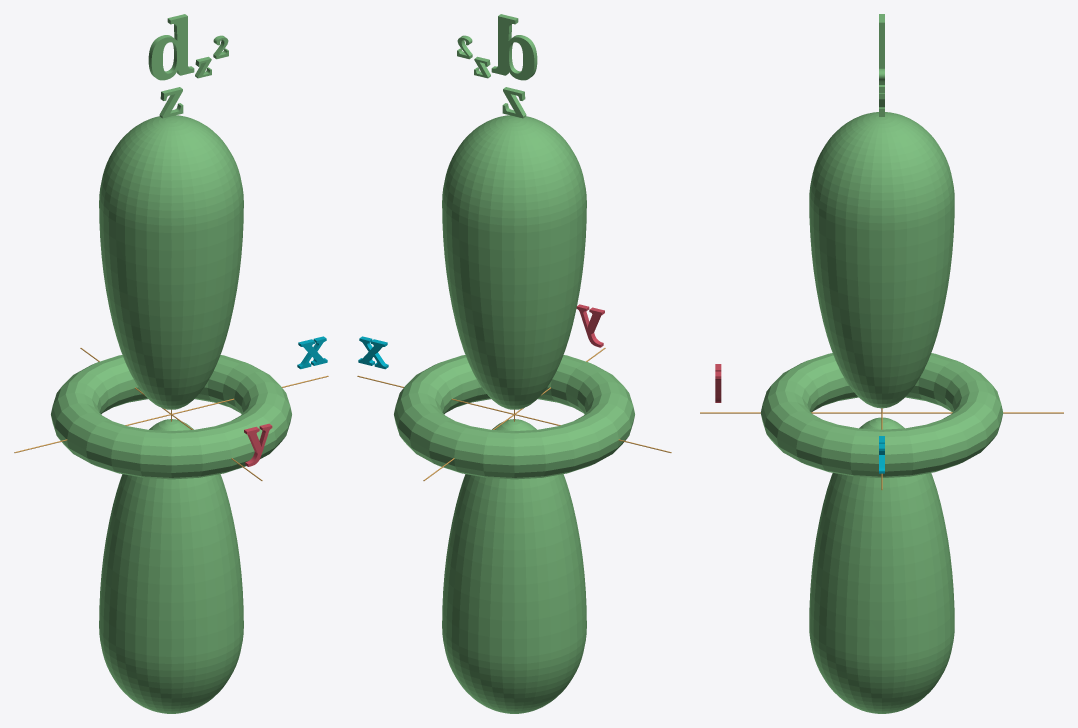
File: dz2 orbital updated.glb
3 renders of one model, left to right at view 1: azimuth 30°, elevation 25°; view 2: azimuth 150°, elevation 25°; view 3: azimuth 270°, elevation 25°, orthographic.
Parts seen in each view (by area): view 1: Mesh_Mesh_head_geo.001_lambert2SG.001; view 2: Mesh_Mesh_head_geo.001_lambert2SG.001; view 3: Mesh_Mesh_head_geo.001_lambert2SG.001.
Boxes of the visible parts, x1,y1,x2,y2 form: Mesh_Mesh_head_geo.001_lambert2SG.001: [14, 14, 328, 713]; Mesh_Mesh_head_geo.001_lambert2SG.001: [357, 14, 671, 713]; Mesh_Mesh_head_geo.001_lambert2SG.001: [700, 14, 1063, 713].
Bounding box in the file's own units: 60 × 126 × 60.
